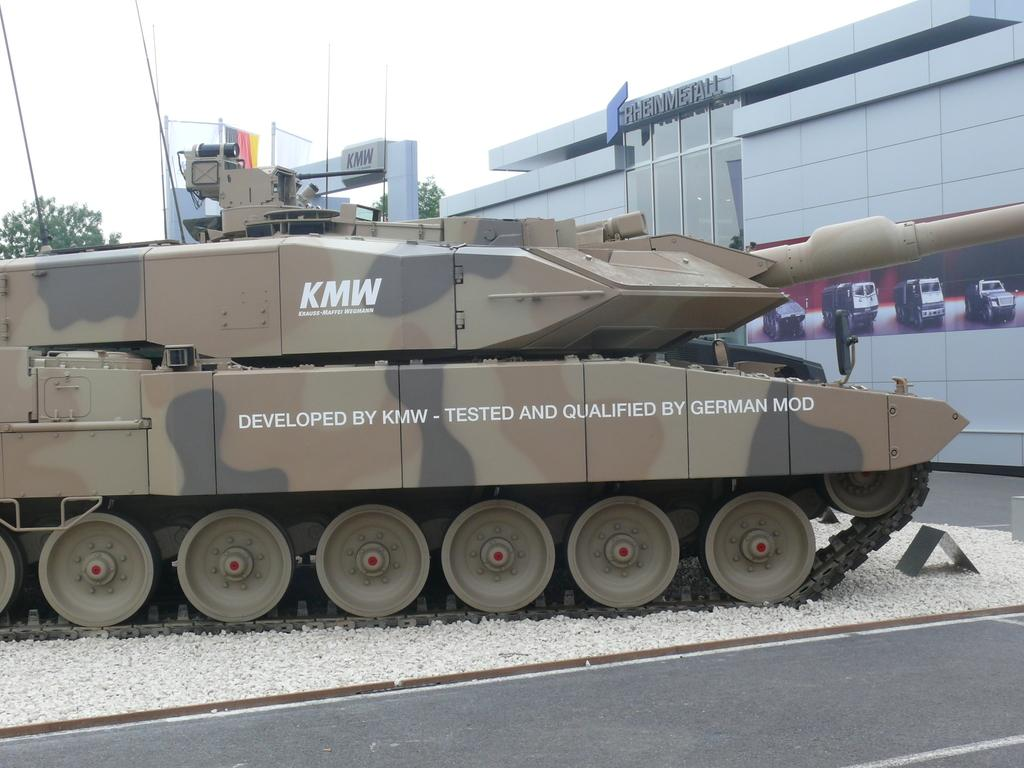Tank: (0, 0, 1023, 641)
